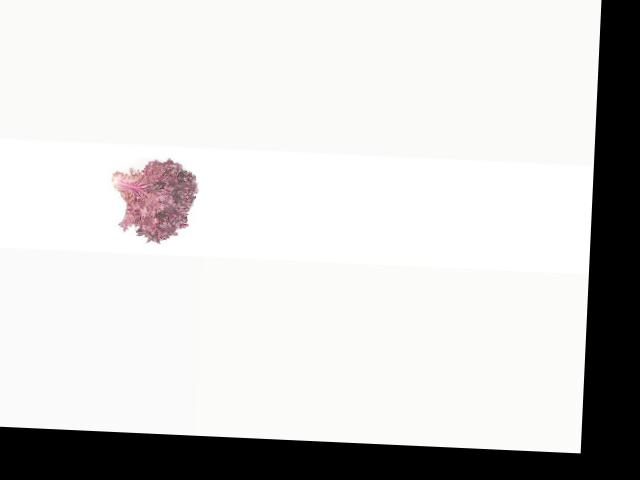lettuce: (100, 159, 203, 247)
